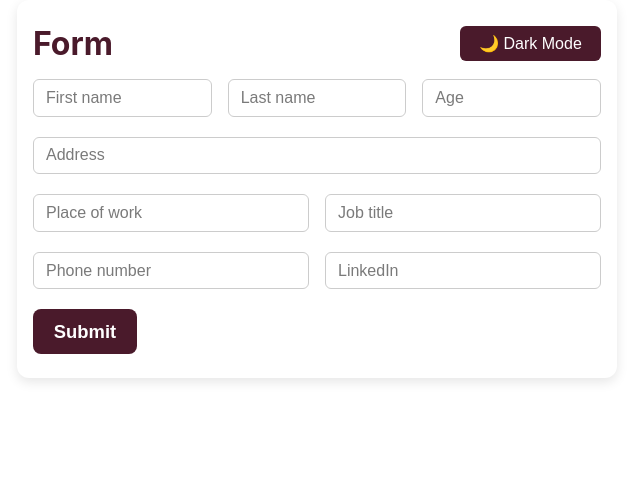
Form component › validates required fields
Click the button "Submit" at [85, 332], box x1=33 y1=309 x2=137 y2=354
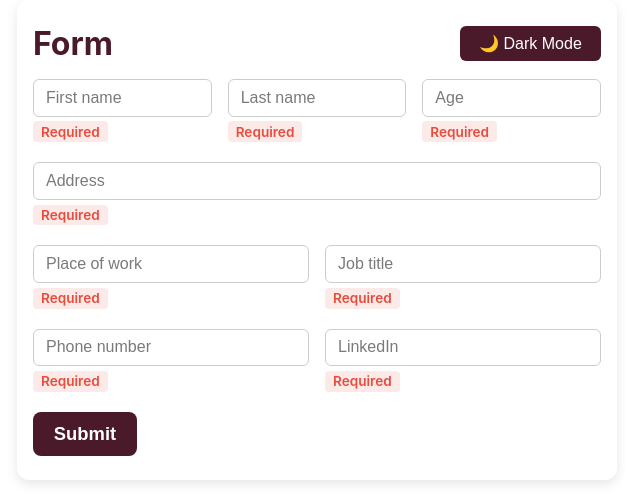
Expected: the 1st text "Required" is shown, x1=33 y1=121 x2=108 y2=142
